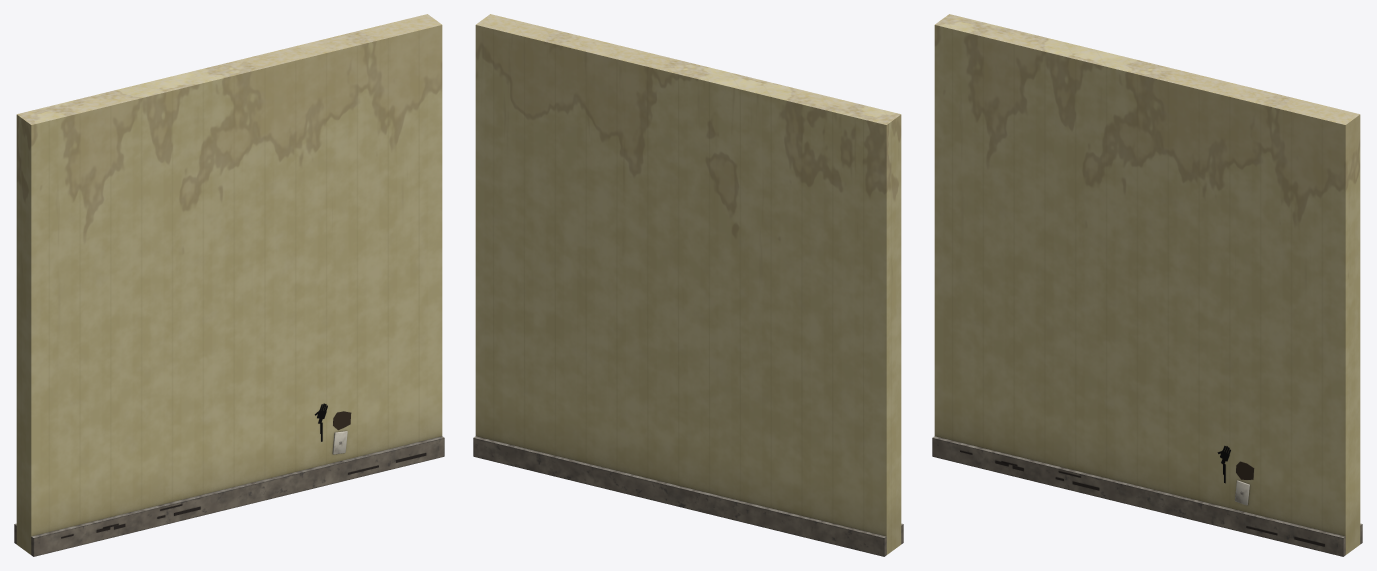
Rendered from wall_office.fbx.
3 views of the same model, side by side, from view 1: azimuth 30°, elevation 25°; view 2: azimuth 150°, elevation 25°; view 3: azimuth 330°, elevation 25° (orthographic).
Visible parts, largest first — view 1: Body; view 2: Body; view 3: Body.
Part boxes in pixels (left/top/right/bottom): Body: left=14, top=14, right=444, bottom=556; Body: left=473, top=14, right=903, bottom=556; Body: left=932, top=14, right=1362, bottom=556.
Size of the model in its own units: 16 by 16 by 1.31.
Materials: 1 (1 with a texture image).
